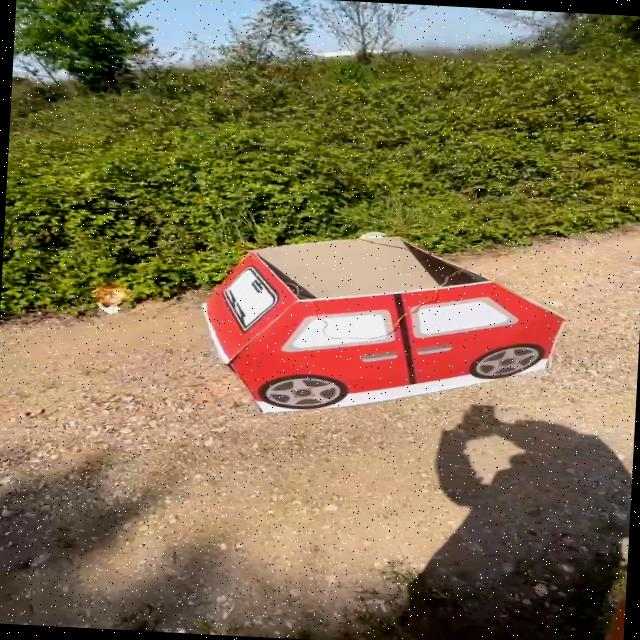red_car: (169, 217, 607, 441)
